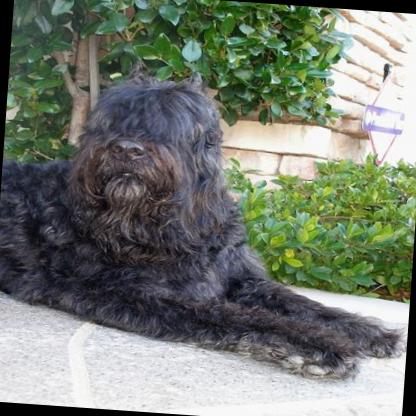Bouvier_des_Flandres: (0, 58, 416, 385)
